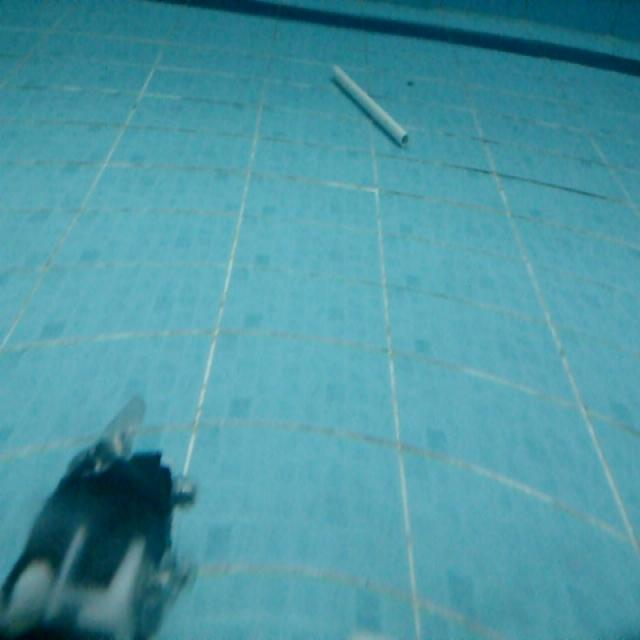Cube: (328, 58, 411, 150)
